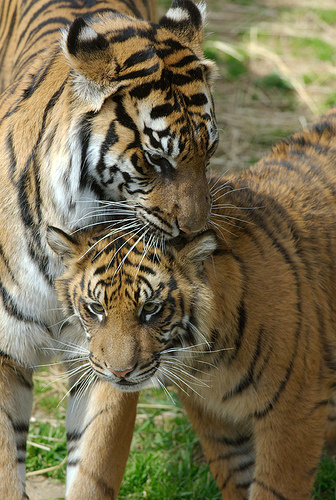Tigre: (31, 210, 336, 411), (25, 21, 263, 243)
